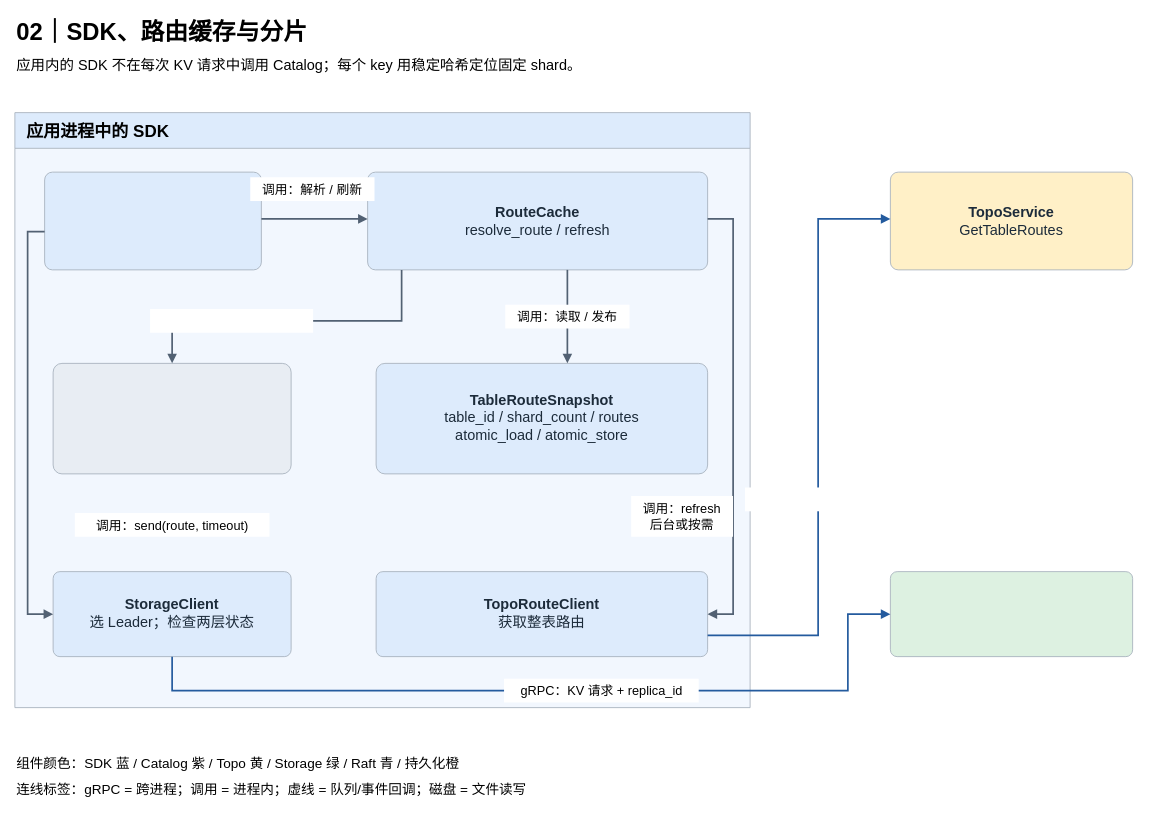
Some shapes in this 1152 by 813 pixel diagram are drawn without their labels. The shapes that lost their labels are listed below. From the top down, each one's box as (x1, y1, x2, y2) in pixels, then its label:
(44, 171, 261, 270): KVClient 总 deadline / 重试策略
(150, 309, 313, 332): 调用：计算 shard_index
(52, 363, 291, 474): stable_shard_index FNV-1a(key) % shard_count
(745, 487, 899, 511): gRPC：GetTableRoutes
(890, 571, 1133, 657): StorageService Put / Get / Delete
